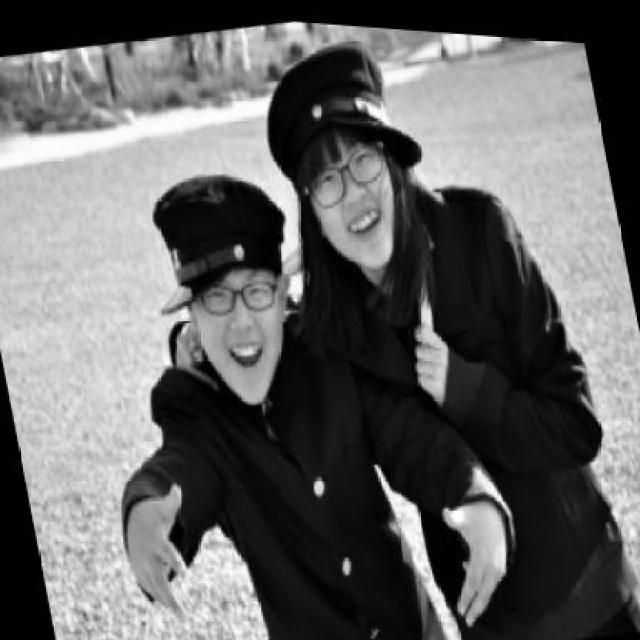hat: (249, 15, 429, 199), (130, 141, 304, 324)
